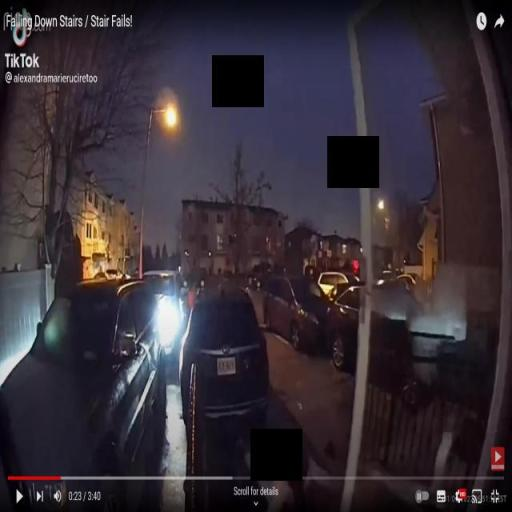Fall: (235, 425, 345, 512)
